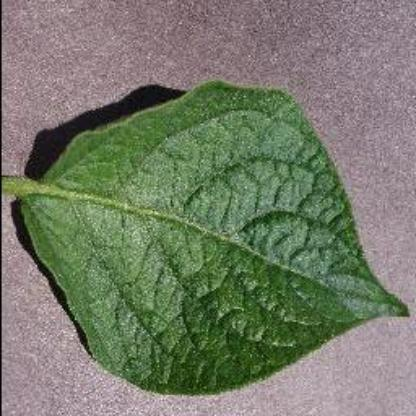Healthy-plant: (1, 67, 409, 401)
